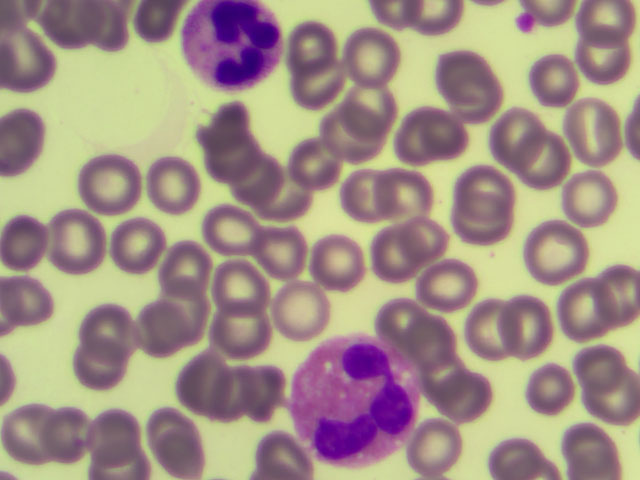Platelets: (513, 9, 535, 35)
RBC: (247, 426, 305, 480), (564, 426, 622, 480), (491, 426, 549, 480), (9, 109, 67, 162), (79, 158, 137, 211), (147, 156, 205, 209), (186, 97, 244, 150), (206, 128, 264, 181), (239, 150, 297, 203), (249, 167, 307, 220), (282, 137, 340, 190), (331, 105, 389, 158), (352, 70, 410, 123), (340, 25, 398, 78), (295, 55, 353, 108), (281, 12, 339, 65), (437, 42, 495, 95), (455, 73, 513, 126), (418, 108, 476, 161), (389, 112, 447, 165), (381, 164, 439, 217), (339, 174, 397, 227), (308, 233, 366, 286), (282, 269, 340, 322), (246, 232, 304, 285), (207, 207, 265, 260), (222, 255, 280, 308), (207, 314, 265, 367), (122, 304, 180, 357), (146, 281, 204, 334), (157, 243, 215, 296), (117, 221, 175, 274), (56, 215, 114, 268), (1, 210, 59, 263), (3, 267, 61, 320), (77, 303, 135, 356), (68, 334, 126, 387), (76, 400, 134, 453), (40, 406, 98, 459), (9, 408, 67, 461), (141, 402, 199, 455), (149, 425, 207, 478), (168, 353, 226, 406), (195, 372, 253, 425), (228, 366, 286, 419), (413, 421, 471, 474), (436, 374, 494, 427), (425, 346, 483, 399), (412, 321, 470, 374), (377, 293, 435, 346), (415, 262, 473, 315), (366, 229, 424, 282), (389, 219, 447, 272), (446, 203, 504, 256), (456, 161, 514, 214), (481, 112, 539, 165), (518, 130, 576, 183), (564, 103, 622, 156), (533, 59, 591, 112), (576, 28, 634, 81), (582, 4, 640, 57), (561, 169, 619, 222), (525, 223, 583, 276), (555, 299, 613, 352), (582, 265, 640, 318), (500, 306, 558, 359), (469, 304, 527, 357), (516, 355, 574, 408), (546, 337, 604, 390), (582, 373, 640, 426), (1, 35, 58, 88), (40, 1, 98, 53)
WBC: (281, 333, 421, 469), (180, 1, 287, 97)
